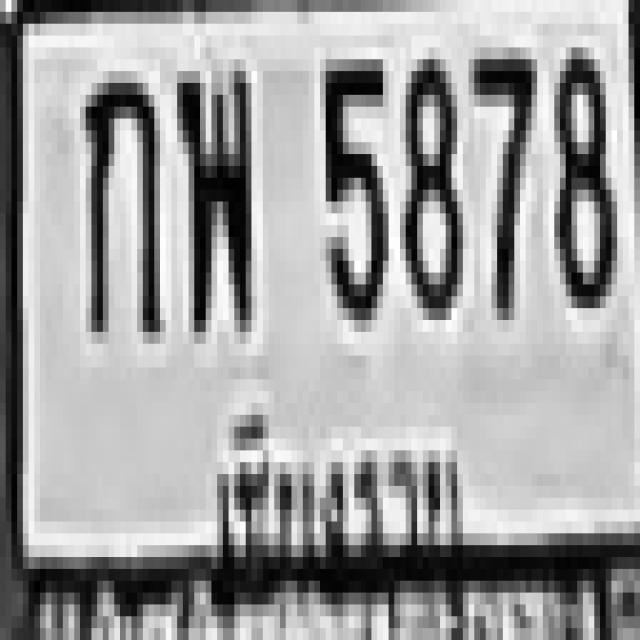10GorGai: (80, 59, 154, 332)
39PhorPan: (171, 59, 246, 320)
5: (320, 47, 383, 320)
7: (468, 36, 532, 308)
8: (400, 48, 457, 308), (552, 36, 608, 296)
ChiangRai: (197, 403, 472, 571)
